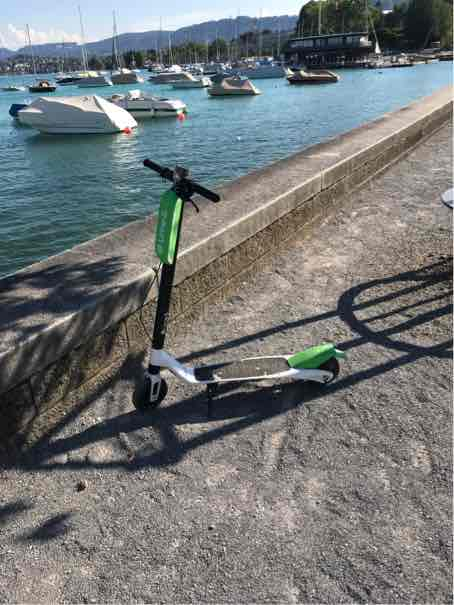scooter: (124, 152, 350, 415)
